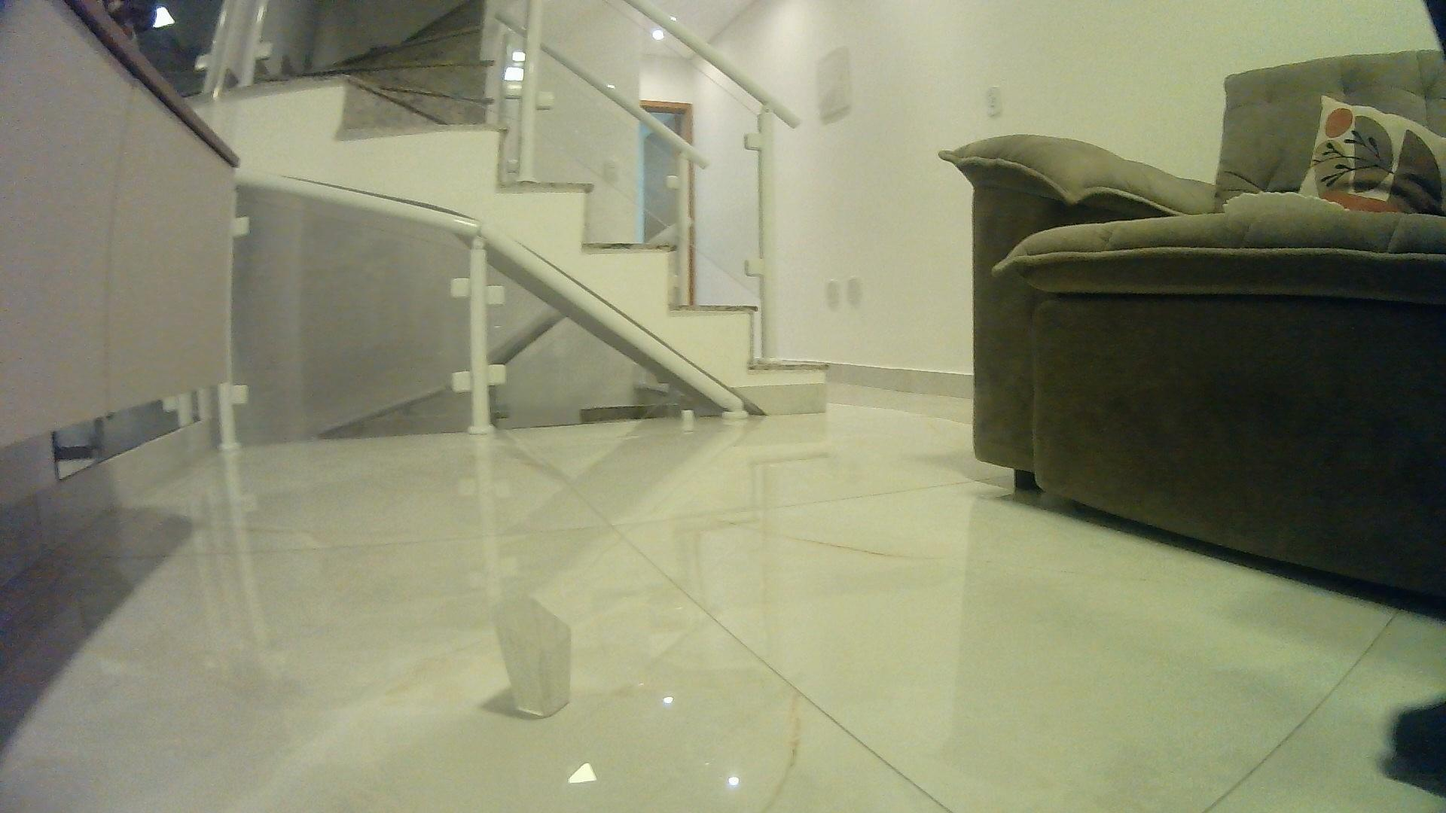erva_daninha: (484, 589, 578, 723)
